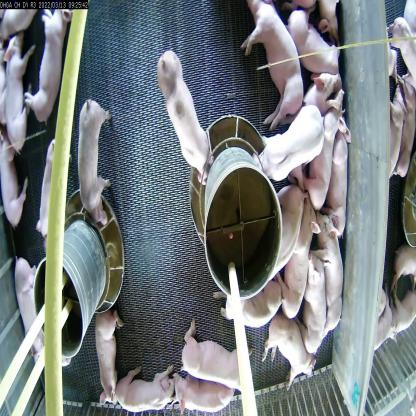Pig: (240, 0, 304, 134), (157, 47, 212, 188), (23, 6, 77, 126), (276, 185, 321, 325), (179, 314, 255, 395), (77, 92, 115, 233), (1, 29, 41, 154), (16, 255, 55, 373), (261, 312, 320, 390), (302, 88, 340, 209), (107, 356, 179, 416), (288, 6, 345, 77), (318, 210, 348, 342), (36, 133, 71, 245), (166, 365, 240, 416), (93, 298, 126, 408), (294, 249, 326, 358), (324, 124, 354, 240), (0, 121, 31, 227), (303, 65, 342, 123)
